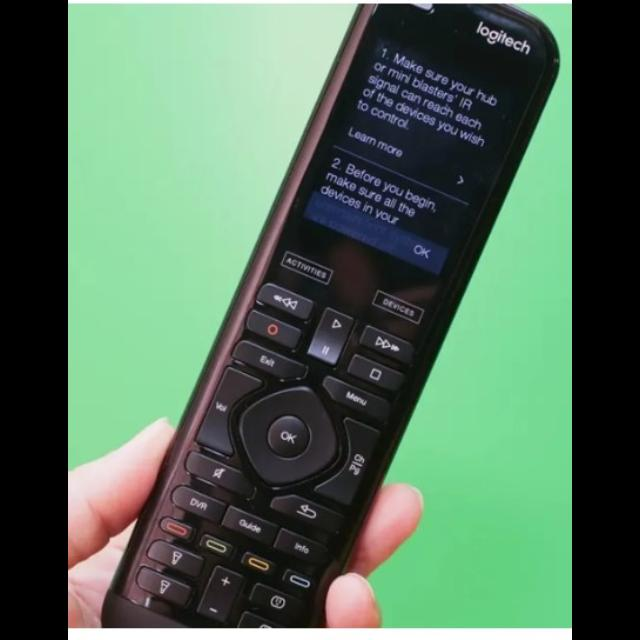TV-Remote-Control: (99, 4, 562, 634)
